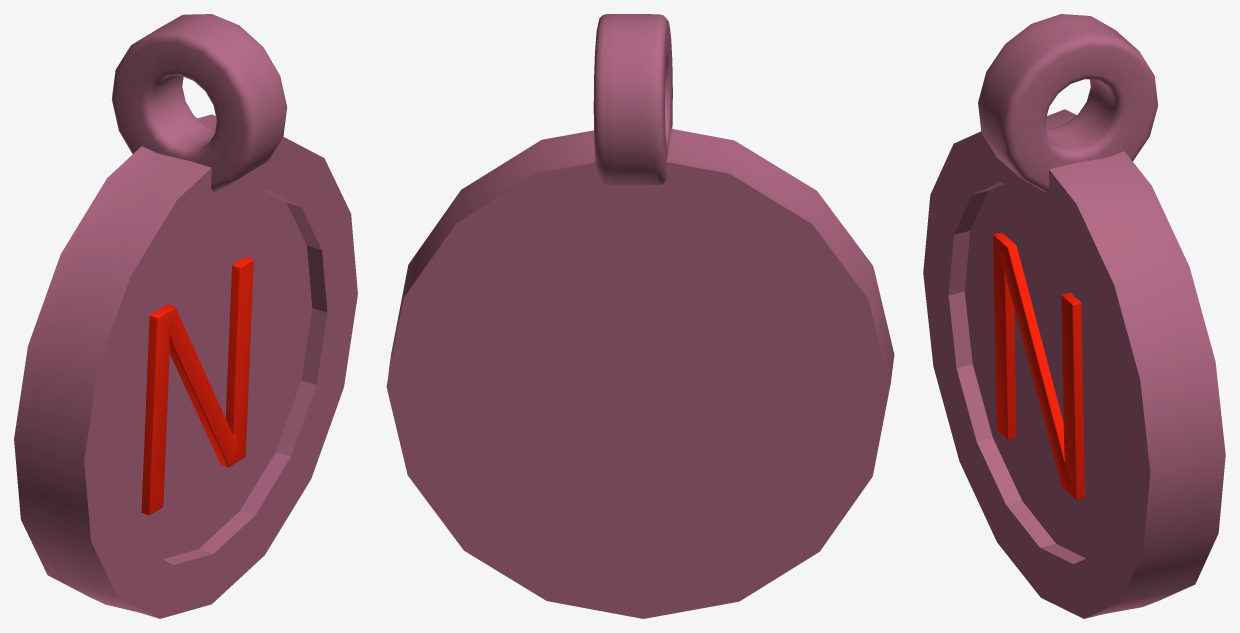
The picture shows the model from 3 angles, left to right: view 1: azimuth 30°, elevation 25°; view 2: azimuth 150°, elevation 25°; view 3: azimuth 270°, elevation 25°; orthographic projection.
Visible parts, largest first — view 1: Cylinder.006, Tube.006, N_2.006; view 2: Cylinder.006, Tube.006; view 3: Cylinder.006, Tube.006, N_2.006.
Boxes of the visible parts, x1,y1,x2,y2 form: Cylinder.006: (14, 114, 357, 618); Tube.006: (111, 14, 287, 191); N_2.006: (141, 257, 253, 515); Cylinder.006: (386, 128, 894, 618); Tube.006: (593, 14, 672, 185); Cylinder.006: (923, 109, 1225, 618); Tube.006: (978, 14, 1157, 192); N_2.006: (993, 232, 1084, 499).
Bounding box in the file's own units: 16.88 × 10.48 × 21.94.
